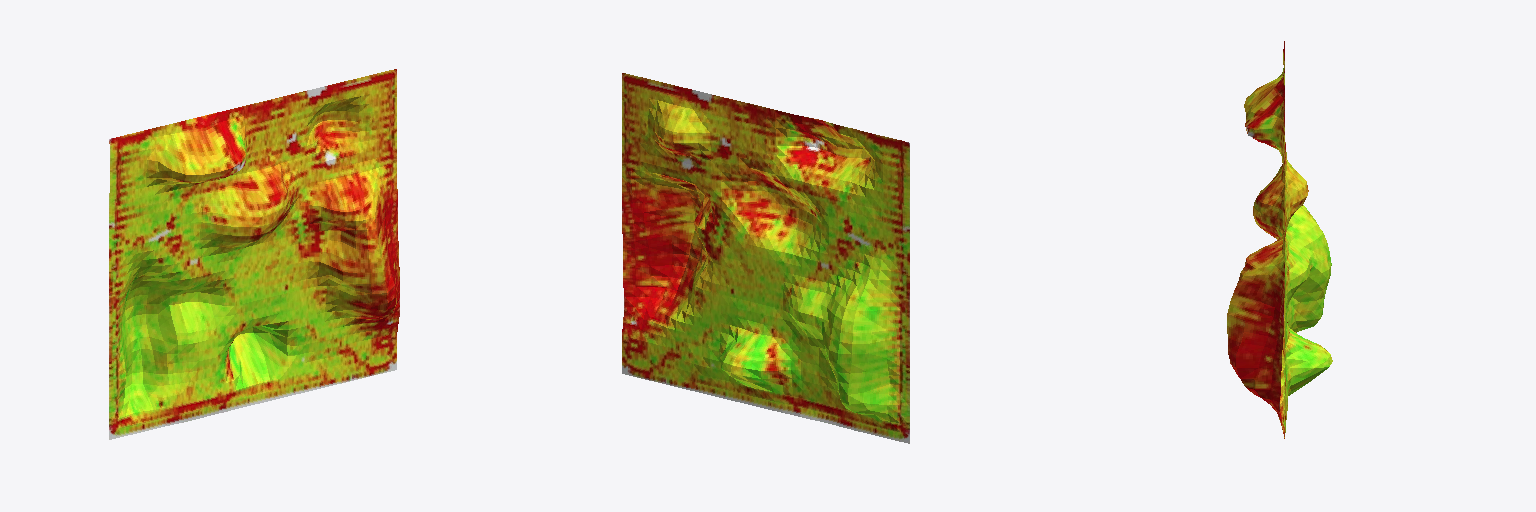
3 renders of one model, left to right at view 1: azimuth 30°, elevation 25°; view 2: azimuth 150°, elevation 25°; view 3: azimuth 270°, elevation 25°, orthographic.
Parts seen in each view (by area): view 1: Plane; view 2: Plane; view 3: Plane.
Boxes of the visible parts, x1=… form: Plane: x1=109, y1=69, x2=399, y2=439; Plane: x1=622, y1=73, x2=909, y2=443; Plane: x1=1227, y1=41, x2=1332, y2=438.
Size of the model in its own units: 2 by 2 by 0.6386.
1 materials, 1 textured.